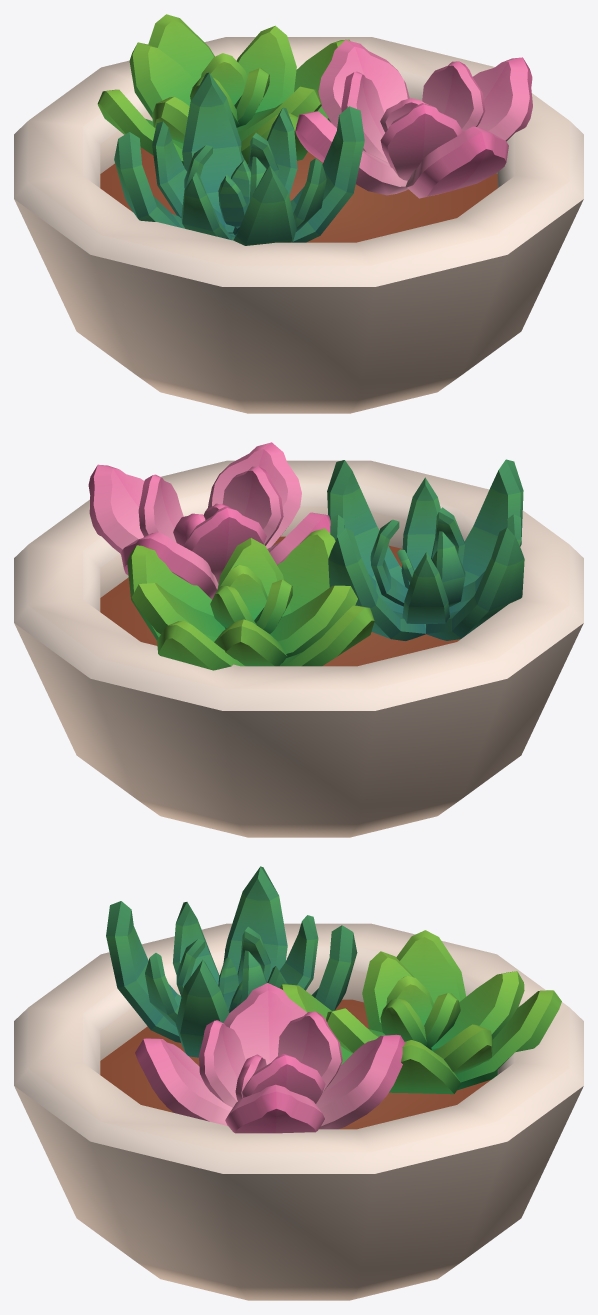
The model's file is succulent-pot.glb.
3 renders of one model, top to bottom at view 1: azimuth 30°, elevation 25°; view 2: azimuth 150°, elevation 25°; view 3: azimuth 270°, elevation 25°, orthographic.
Parts seen in each view (by area): view 1: succulent_plant_pot_small; view 2: succulent_plant_pot_small; view 3: succulent_plant_pot_small.
Boxes of the visible parts, bbox=[...] form: succulent_plant_pot_small: bbox=[14, 14, 583, 413]; succulent_plant_pot_small: bbox=[14, 442, 583, 837]; succulent_plant_pot_small: bbox=[14, 866, 583, 1300].
Bounding box in the file's own units: 0.9904 × 0.5025 × 0.9904.
1 material, 1 textured.
